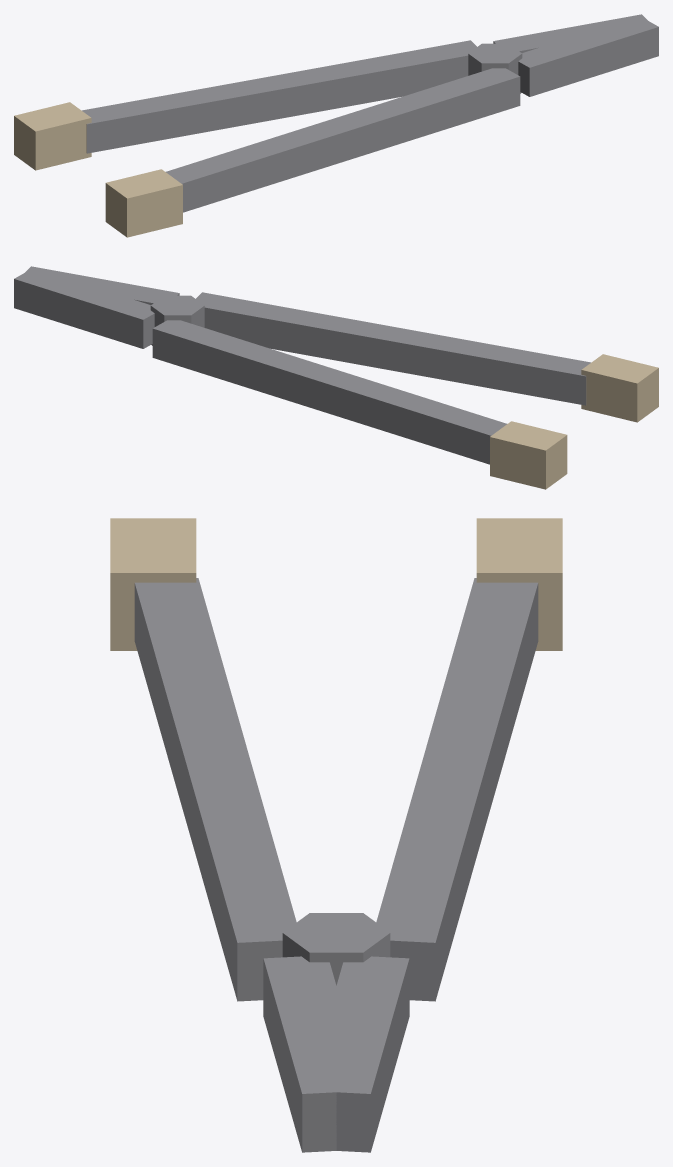
Rendered from prop-wire-cutters-pm1.fbx.
3 views of the same model, one above another, from view 1: azimuth 30°, elevation 25°; view 2: azimuth 150°, elevation 25°; view 3: azimuth 270°, elevation 25° (orthographic). The views are drawn at different scales.
Visible parts, largest first — view 1: prop-wire-cutters-pm1; view 2: prop-wire-cutters-pm1; view 3: prop-wire-cutters-pm1.
Boxes of the visible parts, x1,y1,x2,y2 form: prop-wire-cutters-pm1: (14,14,658,237); prop-wire-cutters-pm1: (14,266,658,489); prop-wire-cutters-pm1: (110,518,562,1152).
Bounding box in the file's own units: 12.43 × 0.8 × 4.2.
